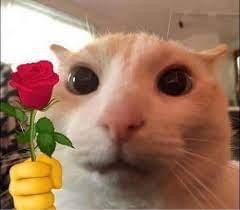cat: (51, 32, 232, 209)
